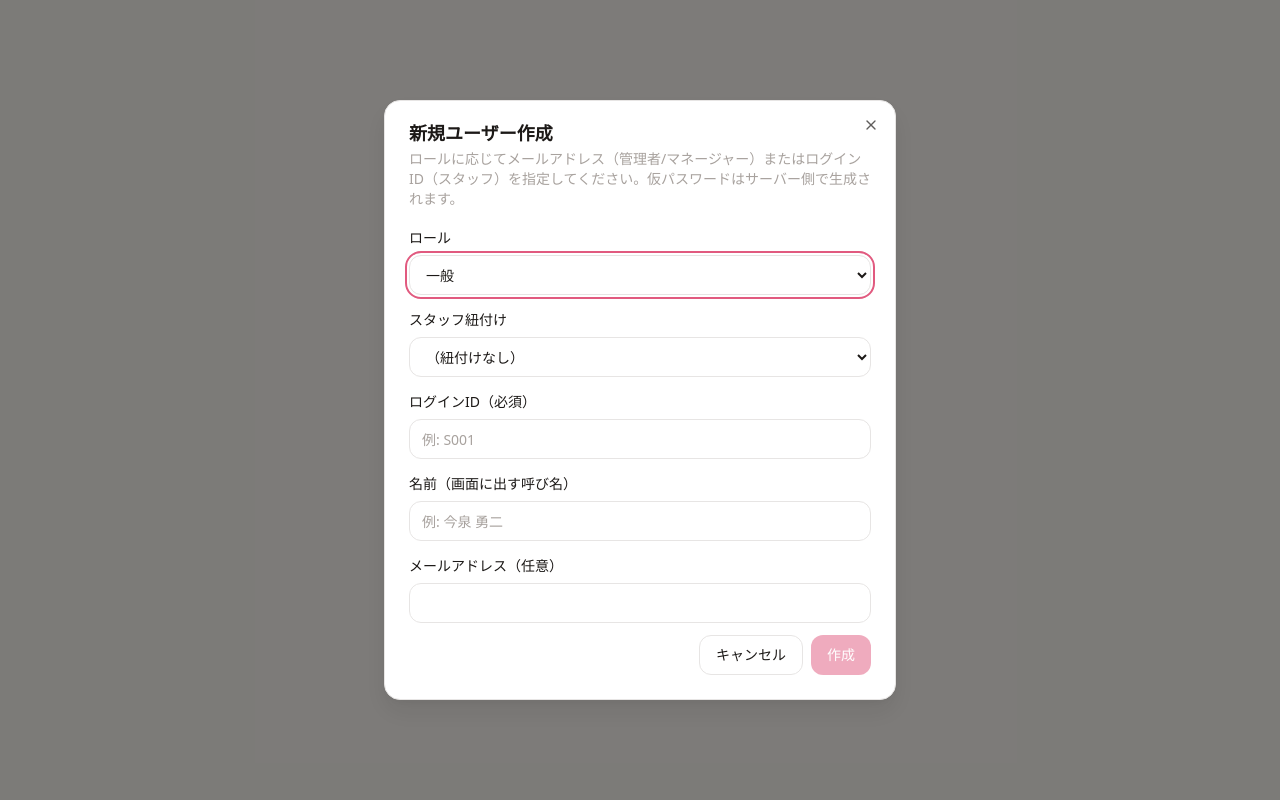
Test: UserCreateDialog — P2 staff linkage › disables already-linked staff and auto-fills username from staff code
Select "S002 佐藤 花子" in the dropdown labelled "スタッフ紐付け" at (640, 357), box [409,337,871,377]
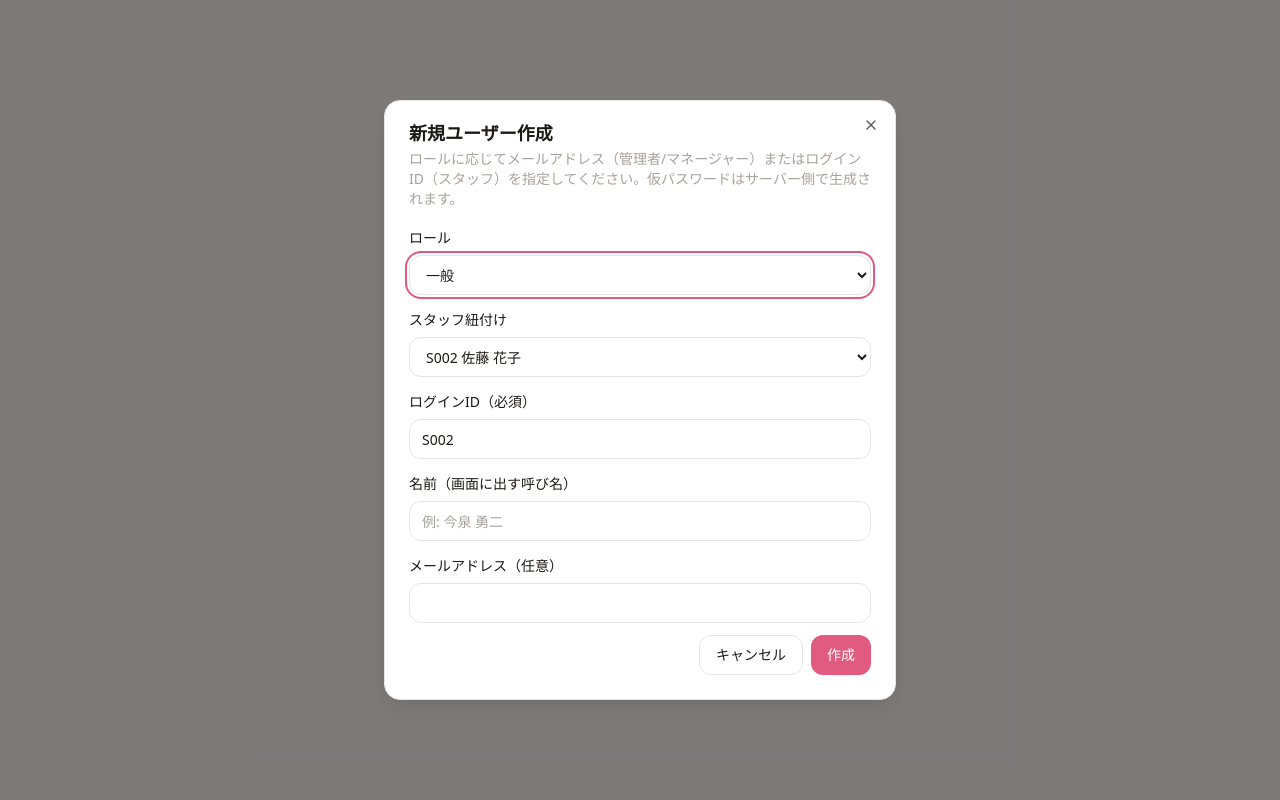
Result: the field labelled "ログインID（必須）" holds "S002" at [409,419,871,459]
